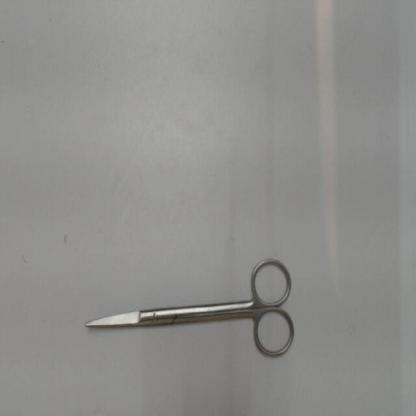Curved Mayo Scissors: (80, 258, 298, 361)
